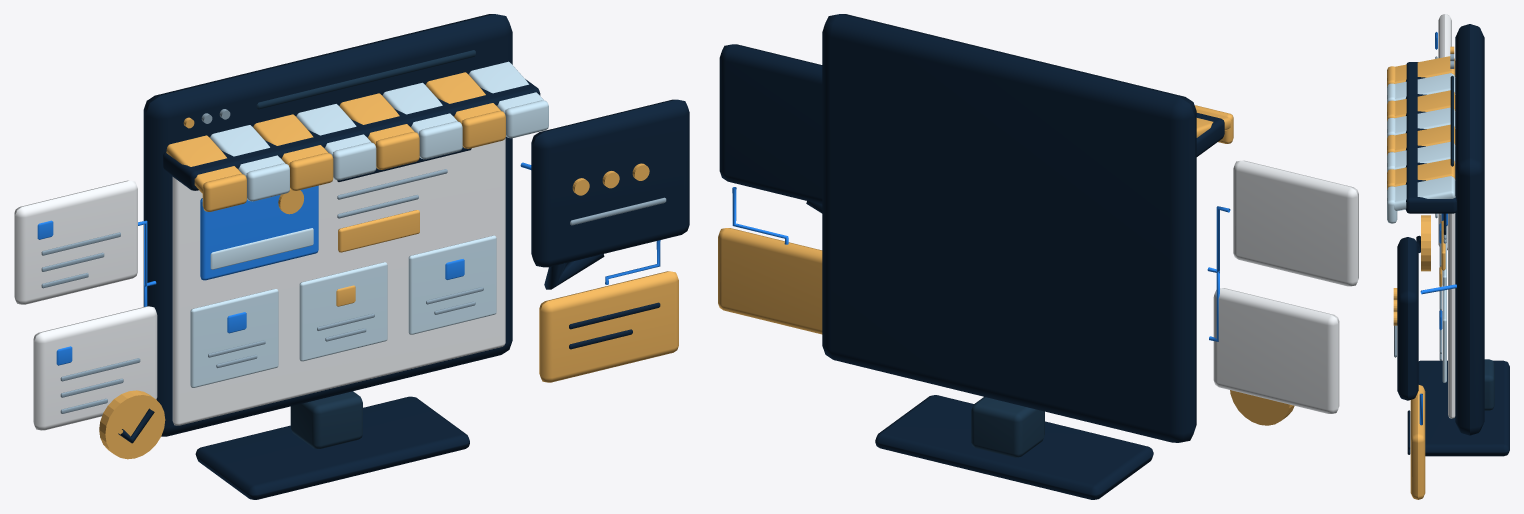
Rendered from builder-hero.glb.
3 renders of one model, left to right at view 1: azimuth 30°, elevation 25°; view 2: azimuth 150°, elevation 25°; view 3: azimuth 270°, elevation 25°, orthographic. The views are drawn at different scales.
Parts seen in each view (by area): view 1: Website paper.001, Website frame.001, Customer conversation.001, Website foot.001, Owner fact card 0.001, Reviewed enquiry card.001, Owner fact card 1.001, Service tile 1.001, Service tile 0.001, Service tile 2.001, Website feature image.001, Canopy backing.001 (+22 smaller); view 2: Website frame.001, Customer conversation.001, Website foot.001, Owner fact card 1.001, Owner fact card 0.001, Reviewed enquiry card.001, Website support.001, Owner approval token.001, Canopy backing.001; view 3: Website frame.001, Website foot.001, Customer conversation.001, Canopy backing.001, Website paper.001, Reviewed enquiry card.001, Storefront canopy stripe 7.001, Storefront canopy stripe 6.001, Storefront canopy stripe 0.001, Storefront canopy stripe 1.001, Storefront canopy stripe 2.001, Storefront canopy stripe 5.001 (+16 smaller).
Boxes of the visible parts, box(x1,y1,x2,y2) form: Website paper.001: box(172, 138, 505, 425); Website frame.001: box(143, 14, 512, 436); Customer conversation.001: box(531, 99, 689, 267); Website foot.001: box(195, 396, 469, 499); Owner fact card 0.001: box(14, 180, 137, 304); Reviewed enquiry card.001: box(539, 271, 678, 382); Owner fact card 1.001: box(33, 306, 157, 430); Service tile 1.001: box(299, 262, 387, 361); Service tile 0.001: box(190, 289, 278, 387); Service tile 2.001: box(408, 235, 496, 334); Website feature image.001: box(200, 185, 318, 280); Canopy backing.001: box(163, 79, 540, 190); Website frame.001: box(822, 14, 1196, 442); Customer conversation.001: box(719, 44, 822, 204); Website foot.001: box(875, 395, 1153, 499); Owner fact card 1.001: box(1213, 288, 1339, 413); Owner fact card 0.001: box(1233, 160, 1358, 286); Reviewed enquiry card.001: box(718, 228, 822, 334); Website support.001: box(971, 397, 1044, 457); Owner approval token.001: box(1230, 390, 1294, 425); Canopy backing.001: box(1196, 113, 1224, 156); Website frame.001: box(1455, 24, 1484, 435); Website foot.001: box(1418, 360, 1509, 456); Customer conversation.001: box(1397, 237, 1418, 400); Canopy backing.001: box(1405, 62, 1456, 213); Website paper.001: box(1448, 77, 1455, 418); Reviewed enquiry card.001: box(1410, 385, 1425, 499); Storefront canopy stripe 7.001: box(1394, 176, 1455, 211); Storefront canopy stripe 6.001: box(1394, 159, 1455, 186); Storefront canopy stripe 0.001: box(1394, 56, 1455, 83); Storefront canopy stripe 1.001: box(1394, 73, 1455, 100); Storefront canopy stripe 2.001: box(1394, 90, 1455, 118); Storefront canopy stripe 5.001: box(1394, 142, 1455, 169).
Size of the model in its own units: 5.43 by 3.17 by 1.09.
